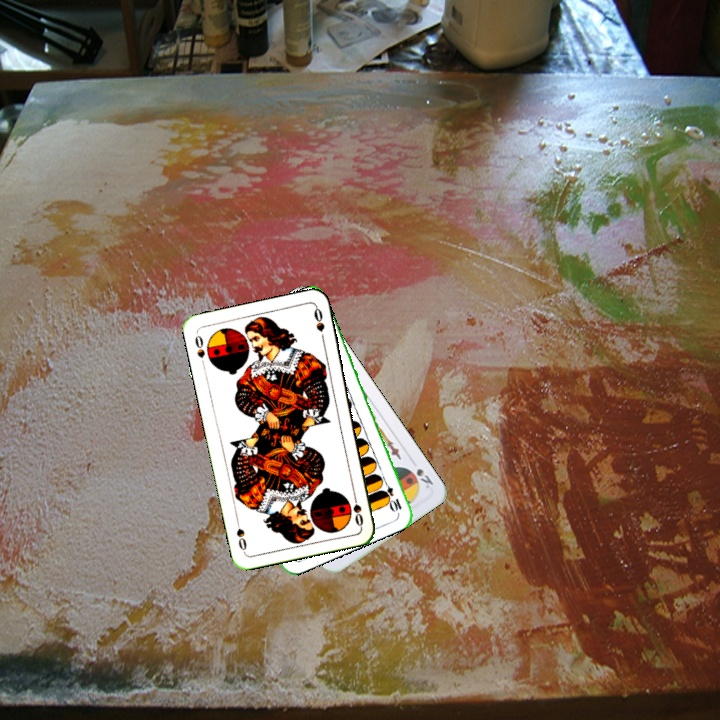E10: (378, 475, 404, 514)
SK: (407, 455, 436, 491)
SO: (349, 488, 366, 529), (191, 329, 208, 361)
